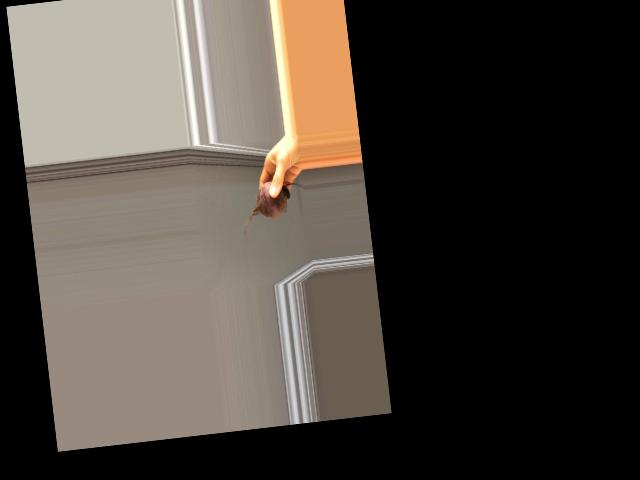beet: (238, 178, 310, 241)
